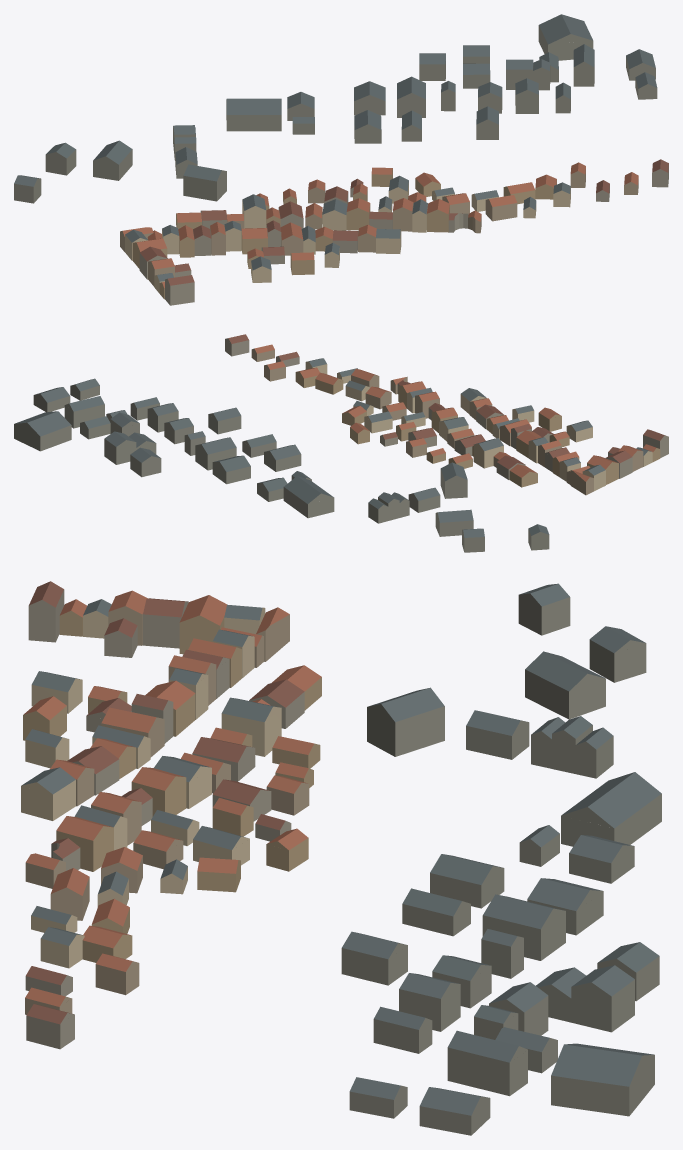
3 views of the same model, one above another, from view 1: azimuth 30°, elevation 25°; view 2: azimuth 150°, elevation 25°; view 3: azimuth 270°, elevation 25° (orthographic). The views are drawn at different scales.
Parts seen in each view (by area): view 1: C_-3_4; view 2: C_-3_4; view 3: C_-3_4.
Part boxes in pixels (x1,y1,x2,y2): C_-3_4: [14, 14, 668, 305]; C_-3_4: [14, 334, 668, 552]; C_-3_4: [21, 581, 661, 1135].
Bounding box in the file's own units: 369 × 14.98 × 191.
